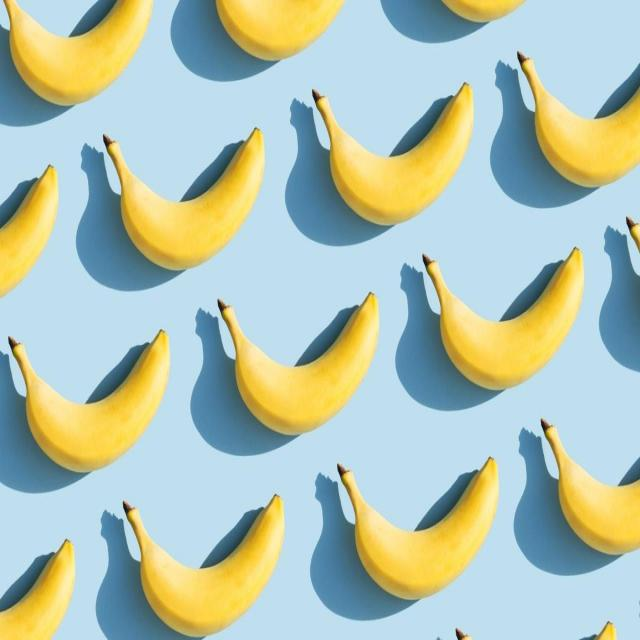banana: (420, 229, 588, 403), (211, 286, 388, 448), (332, 444, 508, 604), (4, 316, 178, 475), (308, 78, 478, 236), (118, 484, 289, 640), (103, 116, 268, 272), (509, 42, 640, 194), (530, 409, 640, 573)
